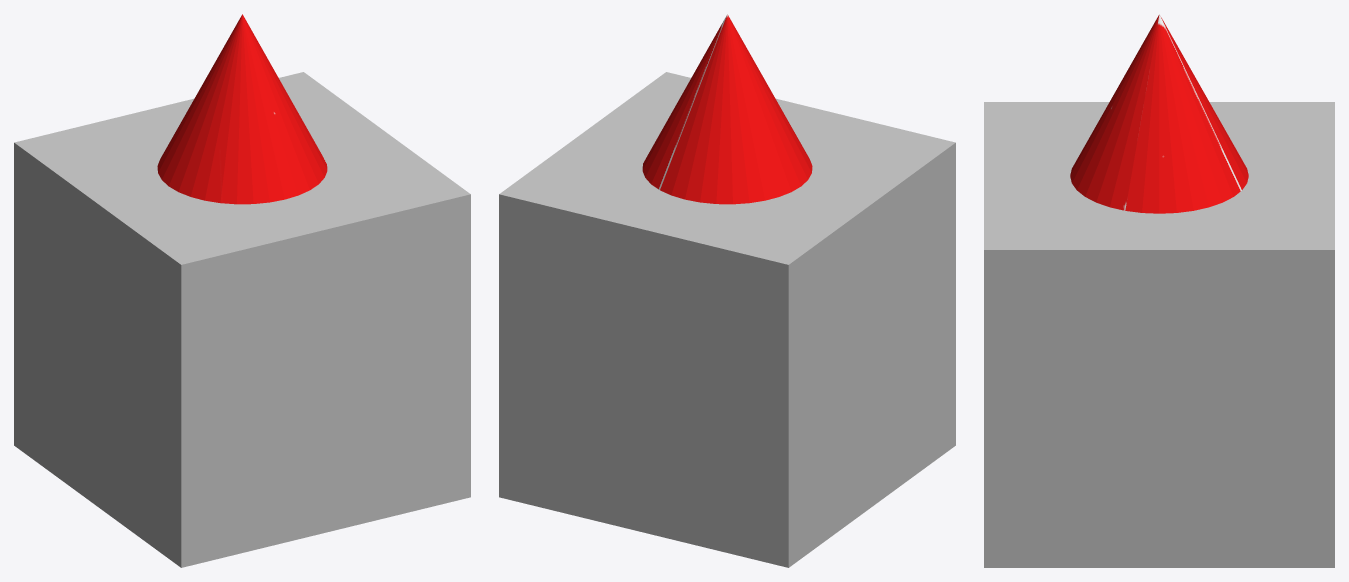
File: enemy3.obj
The picture shows the model from 3 angles, left to right: view 1: azimuth 30°, elevation 25°; view 2: azimuth 150°, elevation 25°; view 3: azimuth 270°, elevation 25°; orthographic projection. The views are drawn at different scales.
Parts seen in each view (by area): view 1: 円錐; view 2: 円錐; view 3: 円錐.
Part boxes in pixels (bbox=[...]): 円錐: bbox=[14, 14, 470, 567]; 円錐: bbox=[499, 14, 955, 567]; 円錐: bbox=[984, 14, 1334, 567].
Size of the model in its own units: 2 by 3.02 by 2.
Materials: 2 (1 with a texture image).
